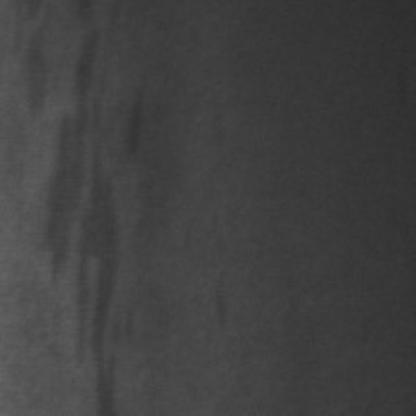inclusion: (33, 11, 133, 406)
